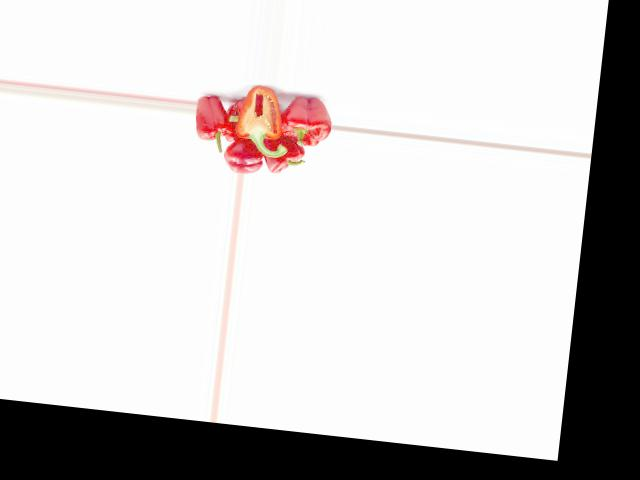bell_pepper: (260, 137, 307, 176)
